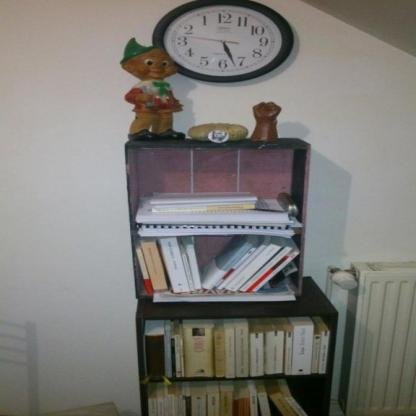book: (123, 190, 328, 416)
